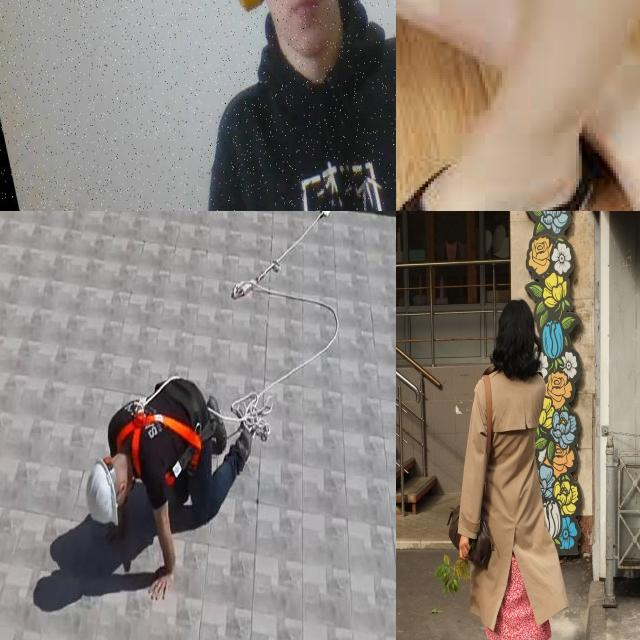Harness: (225, 211, 340, 442), (117, 414, 202, 478)
Sandals: (396, 127, 583, 211)
